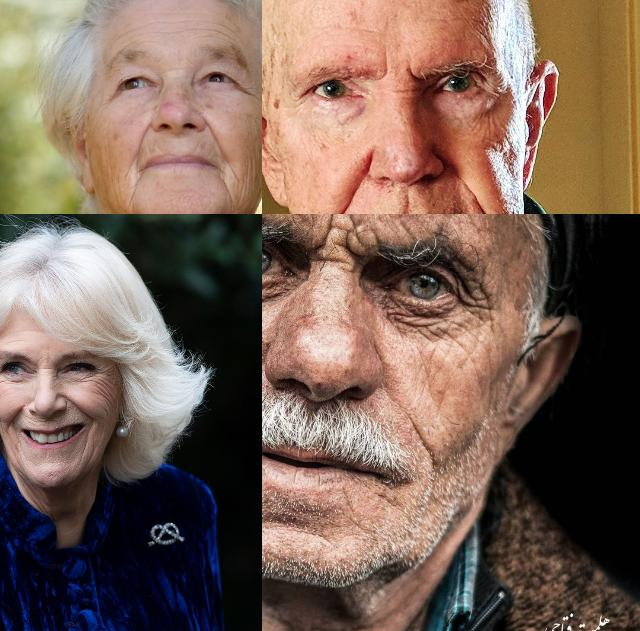chin: (80, 434, 96, 469)
crows_feet: (456, 286, 494, 328), (235, 72, 255, 101), (96, 367, 112, 395), (102, 86, 120, 106)
forehead: (203, 22, 234, 44), (155, 25, 185, 39), (120, 20, 144, 36), (1, 336, 31, 346)
frown_line: (377, 49, 418, 101), (320, 214, 354, 271), (34, 364, 54, 376)
gummy_smile: (438, 156, 495, 214), (327, 155, 373, 214), (406, 415, 439, 463), (130, 125, 150, 164), (68, 397, 98, 423), (200, 118, 222, 148), (4, 406, 26, 432)
masseter: (244, 156, 260, 189)
sad_smile: (216, 178, 238, 204), (130, 172, 148, 202)
smoker_lines: (395, 193, 417, 214), (30, 418, 58, 428)
